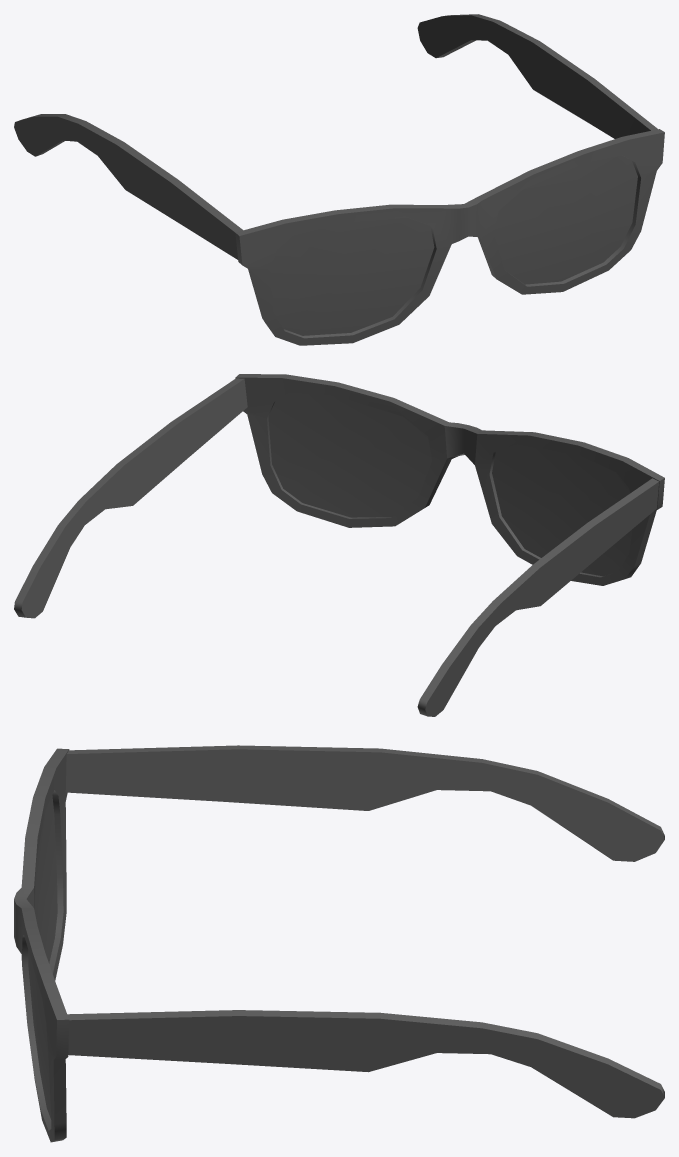
Rendered from glasses.obj.
3 views of the same model, one above another, from view 1: azimuth 30°, elevation 25°; view 2: azimuth 150°, elevation 25°; view 3: azimuth 270°, elevation 25° (orthographic). The views are drawn at different scales.
Visible parts, largest first — view 1: glasses_MSH; view 2: glasses_MSH; view 3: glasses_MSH.
Boxes of the visible parts, x1,y1,x2,y2 form: glasses_MSH: [14, 14, 664, 345]; glasses_MSH: [14, 374, 664, 716]; glasses_MSH: [14, 745, 664, 1142].
Bounding box in the file's own units: 7.18 × 2.19 × 7.28.
1 material, 1 textured.
